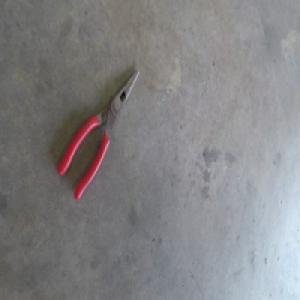Pliers: (59, 70, 140, 200)
